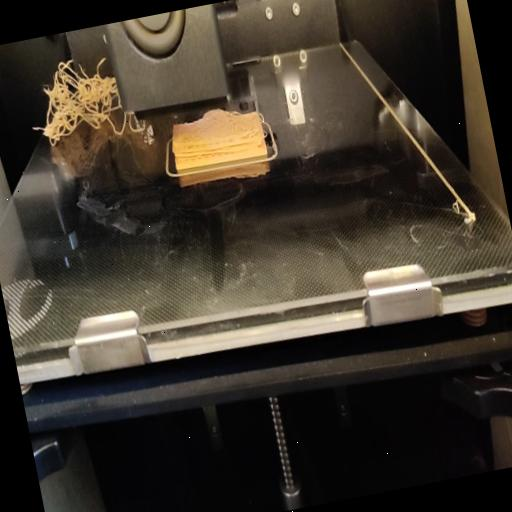spaghetti: (23, 50, 129, 164)
